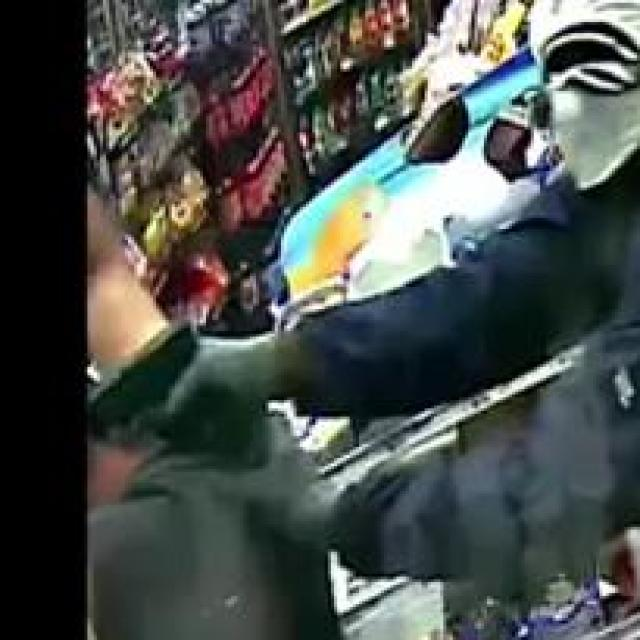Guns: (83, 313, 244, 476)
